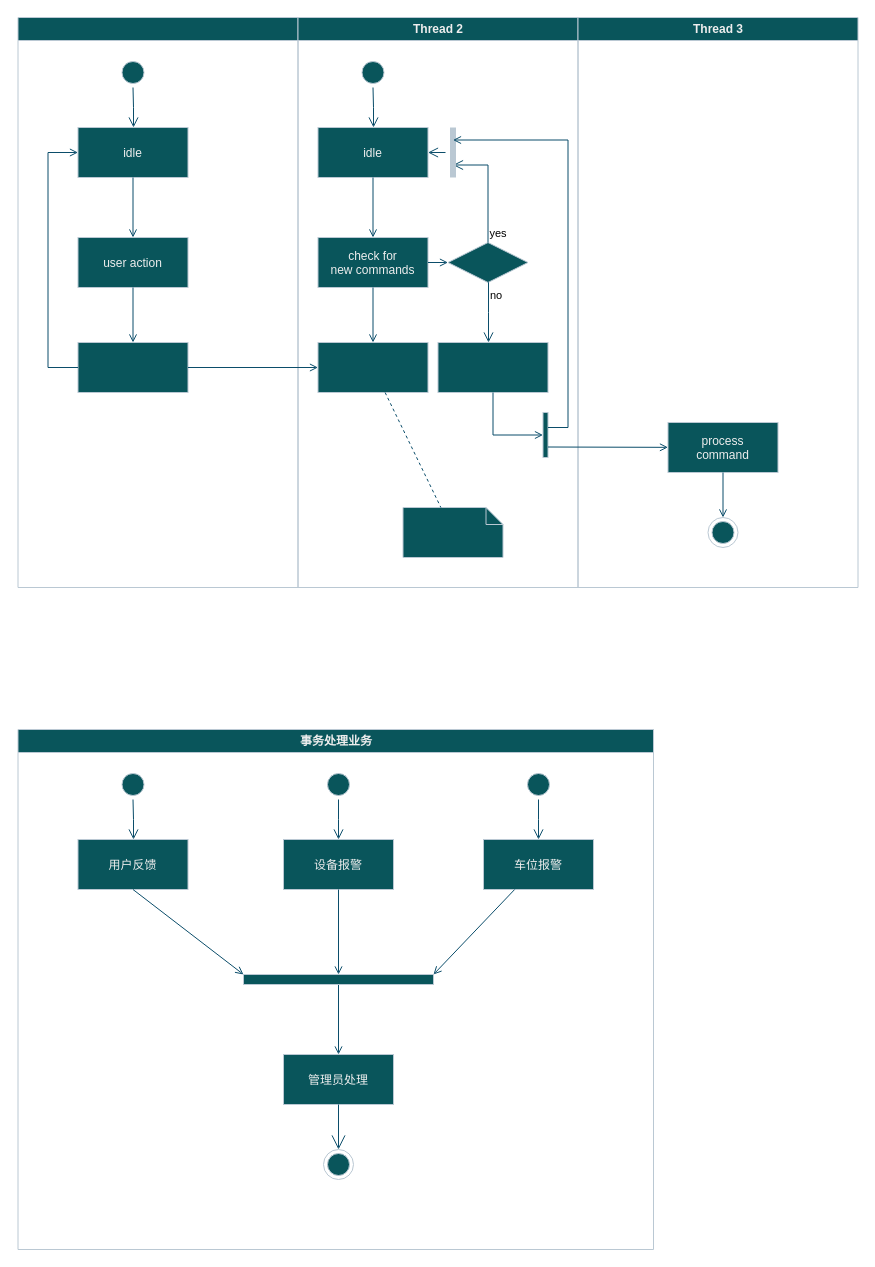
This 875x1267 diagram has some shape labels left out. The shapes that lost their labels are listed below. From the top down, each one's box as (x1, y1, x2, y2) in pixels, then its label:
(447, 242, 528, 282): queue empty
(17, 16, 298, 588): Thread 1
(77, 342, 188, 392): post command
(317, 342, 428, 392): command queue
(437, 342, 548, 392): dispatch command worker thread
(402, 506, 503, 558): critical section
